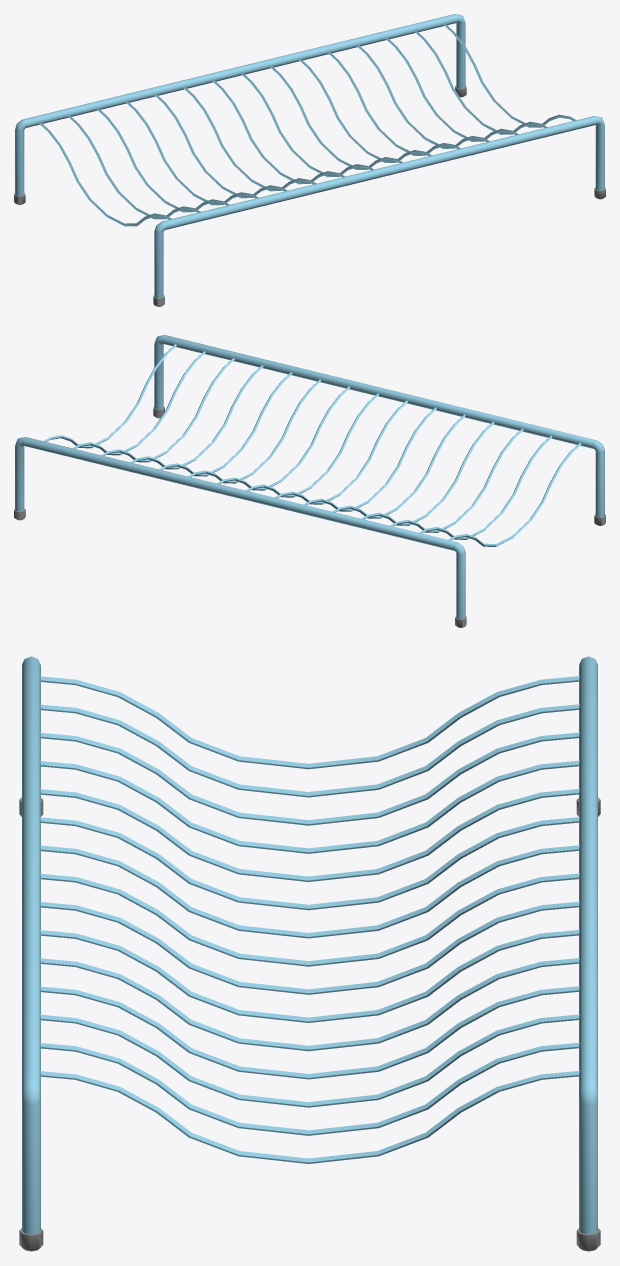
Rendered from PROPS_dishDrainer_01.FBX.
The picture shows the model from 3 angles, top to bottom: view 1: azimuth 30°, elevation 25°; view 2: azimuth 150°, elevation 25°; view 3: azimuth 270°, elevation 25°; orthographic projection. The views are drawn at different scales.
Visible parts, largest first — view 1: PROPS_dishDrainer_01; view 2: PROPS_dishDrainer_01; view 3: PROPS_dishDrainer_01.
Part boxes in pixels (bbox=[...]): PROPS_dishDrainer_01: bbox=[14, 14, 605, 306]; PROPS_dishDrainer_01: bbox=[14, 335, 605, 627]; PROPS_dishDrainer_01: bbox=[19, 656, 600, 1251].
Size of the model in its own units: 61.47 by 10.77 by 34.26.
